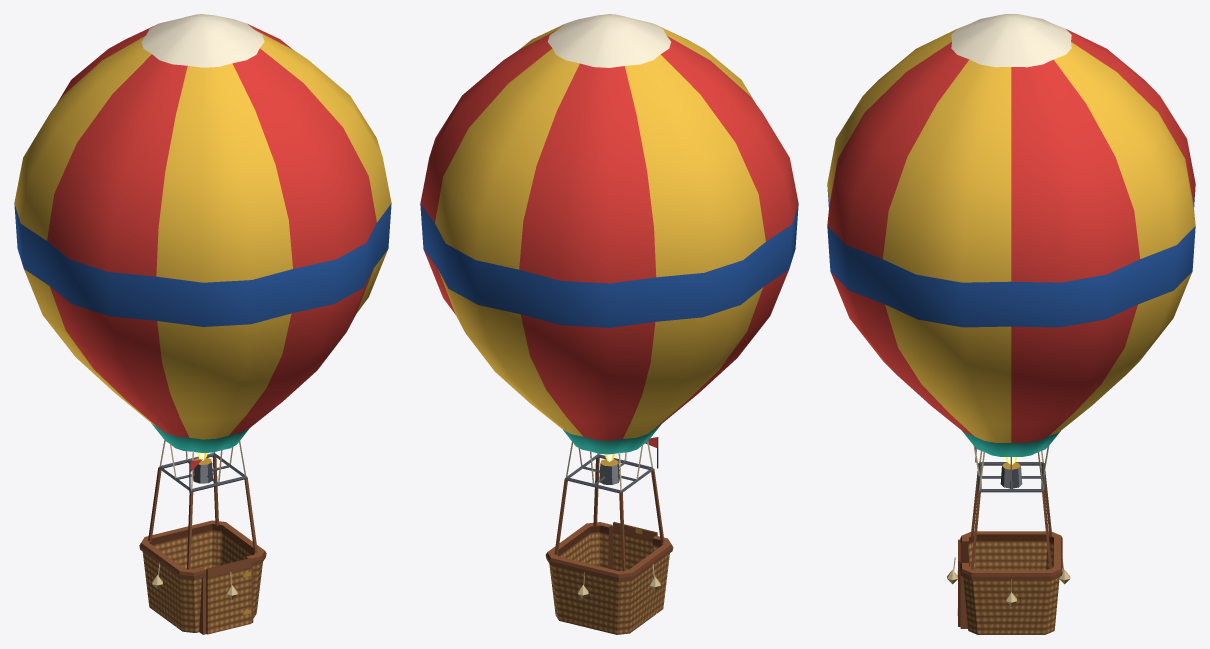
Rendered from transport_balloon.glb.
3 renders of one model, left to right at view 1: azimuth 30°, elevation 25°; view 2: azimuth 150°, elevation 25°; view 3: azimuth 270°, elevation 25°, orthographic.
Parts seen in each view (by area): view 1: balloon_envelope, balloon_basket, basket_door_leaf; view 2: balloon_envelope, balloon_basket, basket_door_leaf; view 3: balloon_envelope, balloon_basket.
Part boxes in pixels (x1=…): balloon_envelope: x1=14, y1=14, x2=391, y2=452; balloon_basket: x1=139, y1=440, x2=266, y2=634; basket_door_leaf: x1=206, y1=558, x2=251, y2=634; balloon_envelope: x1=420, y1=14, x2=798, y2=454; balloon_basket: x1=545, y1=437, x2=673, y2=634; basket_door_leaf: x1=613, y1=522, x2=657, y2=570; balloon_envelope: x1=827, y1=14, x2=1195, y2=456; balloon_basket: x1=960, y1=446, x2=1070, y2=634.
Bounding box in the file's own units: 5.8 × 10.4 × 5.8.
2 materials, 2 textured.
